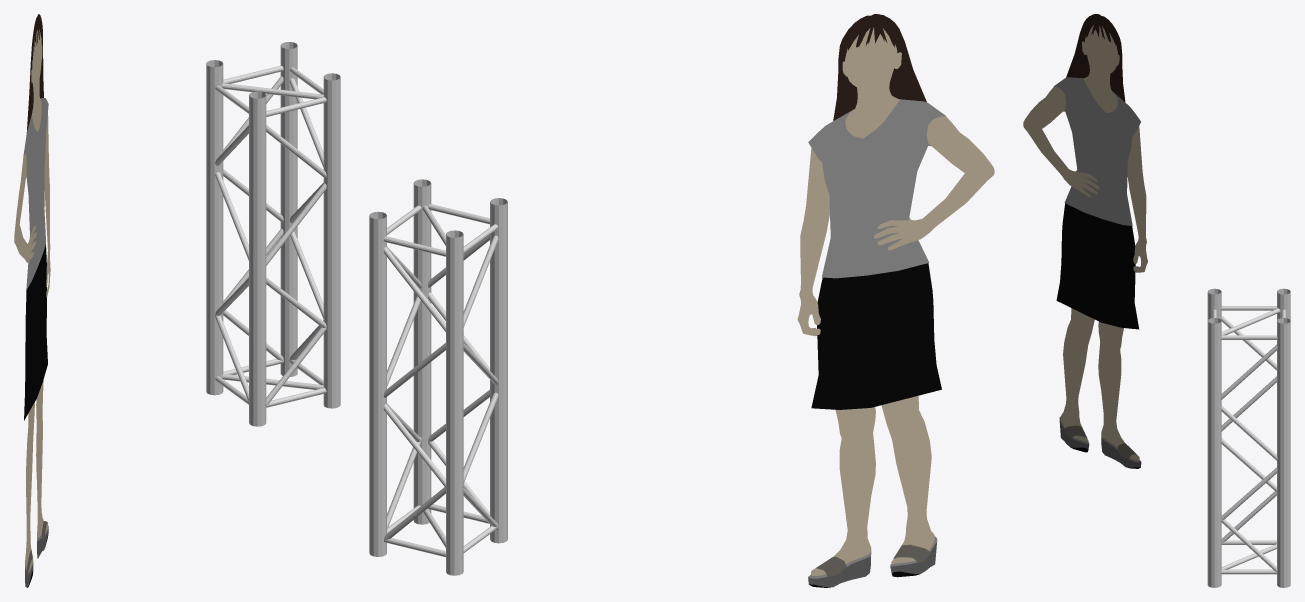
The model's file is H30V_1M_Prolyte-u99d06d5.glb.
The picture shows the model from 3 angles, left to right: view 1: azimuth 30°, elevation 25°; view 2: azimuth 150°, elevation 25°; view 3: azimuth 270°, elevation 25°; orthographic projection. The views are drawn at different scales.
Parts seen in each view (by area): view 1: Geom3D (×10), Geom3D_Sophie; view 2: Geom3D (×10), Geom3D_Sophie; view 3: Geom3D (×11), Geom3D_Sophie.
Boxes of the visible parts, bbox=[...] form: Geom3D (×10): bbox=[14, 14, 340, 586]; Geom3D_Sophie: bbox=[23, 98, 48, 289]; Geom3D (×10): bbox=[369, 14, 994, 587]; Geom3D_Sophie: bbox=[808, 99, 946, 278]; Geom3D (×11): bbox=[1023, 14, 1290, 587]; Geom3D_Sophie: bbox=[1054, 77, 1140, 225].
Bounding box in the file's own units: 1.43 × 1.69 × 0.9247.
